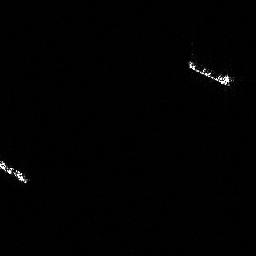ship: (185, 57, 236, 88), (1, 158, 33, 187)
